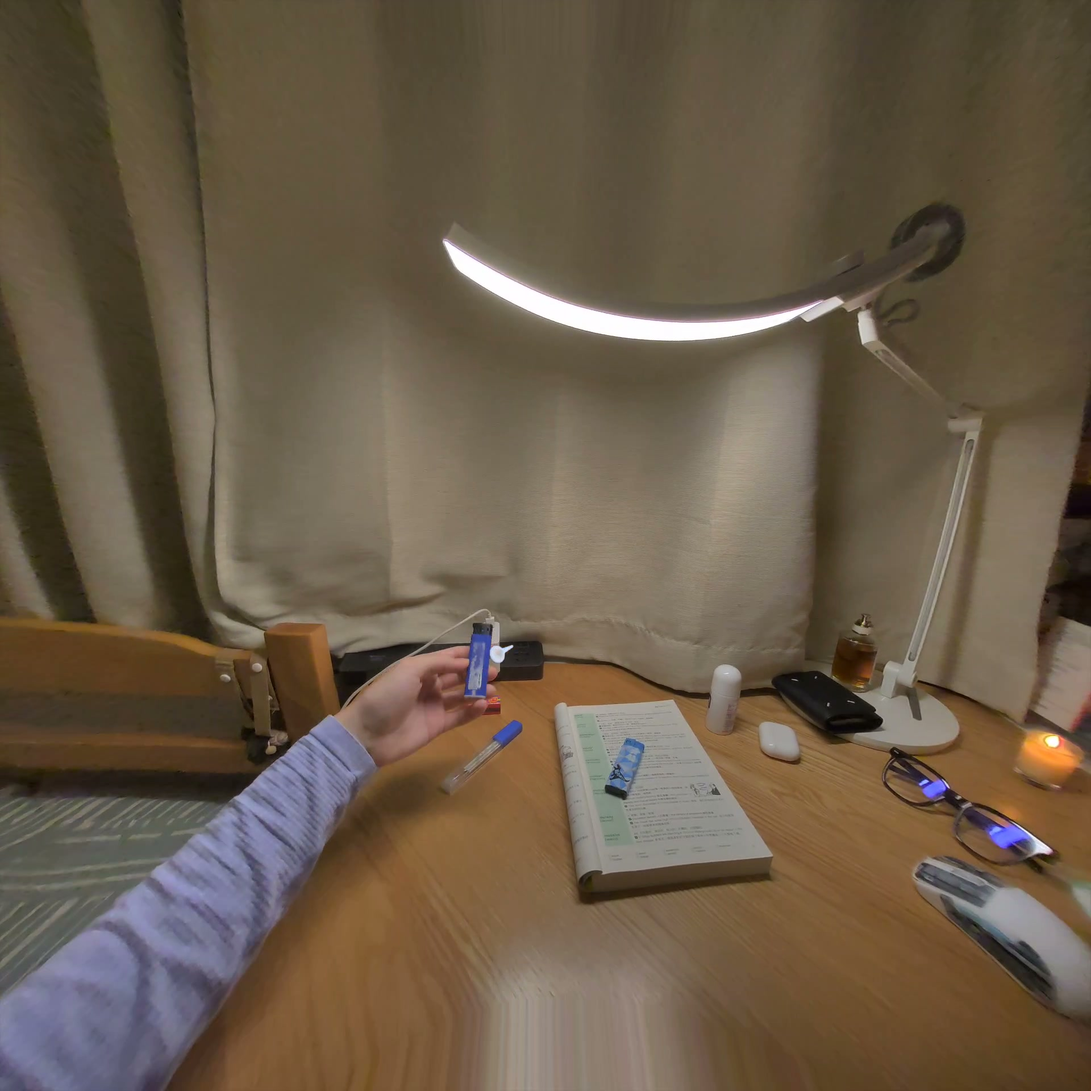lighter: (464, 623, 492, 699)
